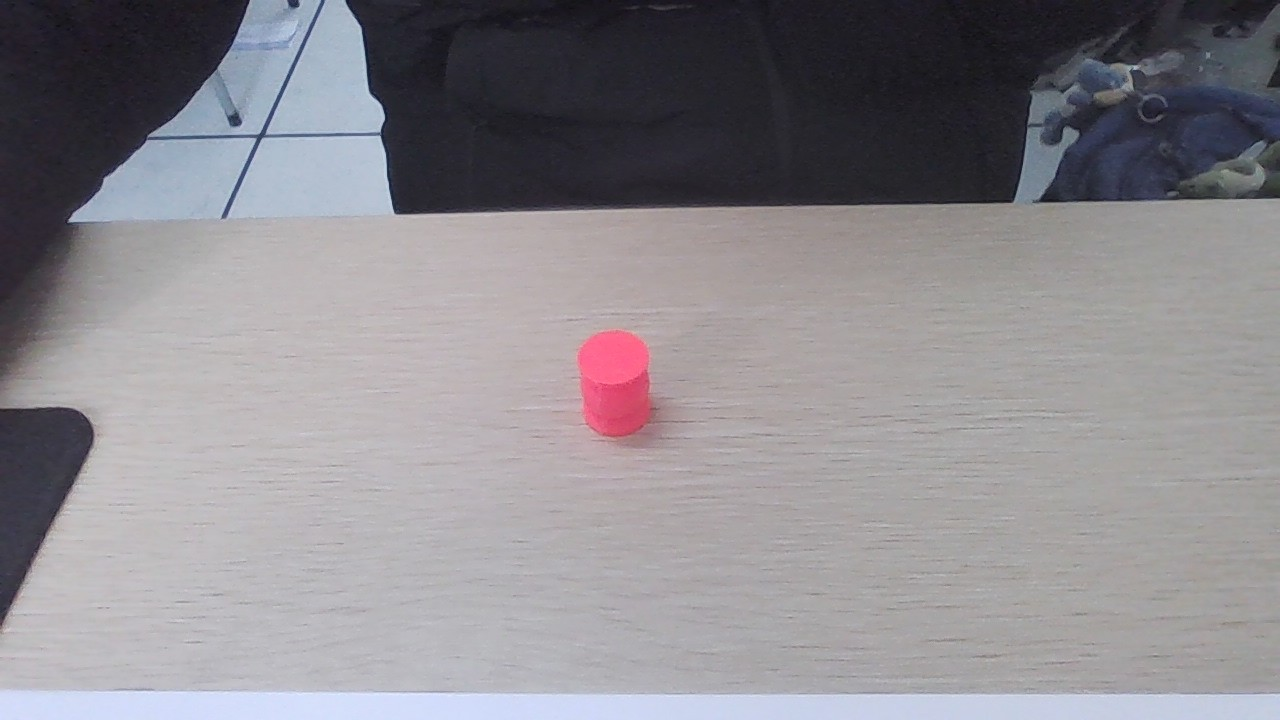KHS-plastic: (575, 333, 648, 435)
